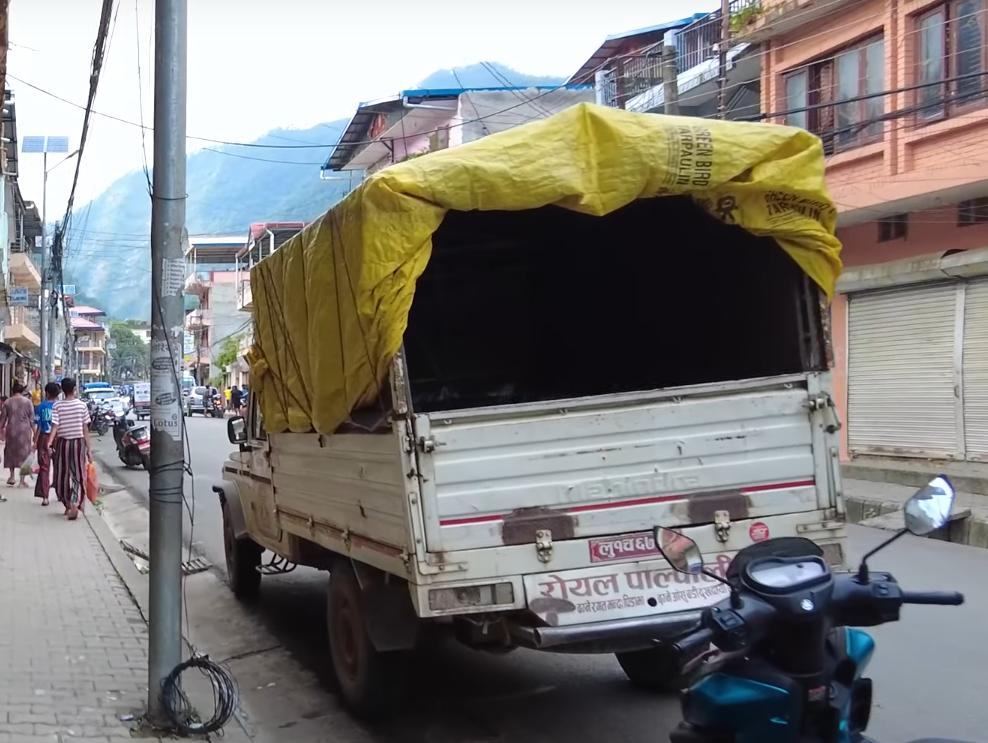scooter: (579, 510, 988, 743), (104, 399, 160, 474)
taxi: (85, 384, 119, 421)
transport_vehicle: (213, 99, 853, 686)
